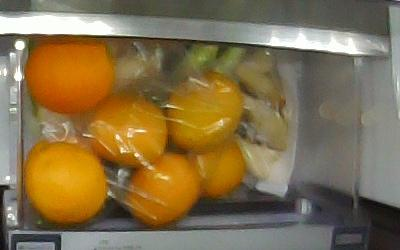orange: (23, 37, 114, 114), (24, 139, 105, 224)
orange_vinyl: (166, 73, 244, 152), (89, 94, 167, 169), (127, 151, 197, 225), (180, 134, 246, 198)
